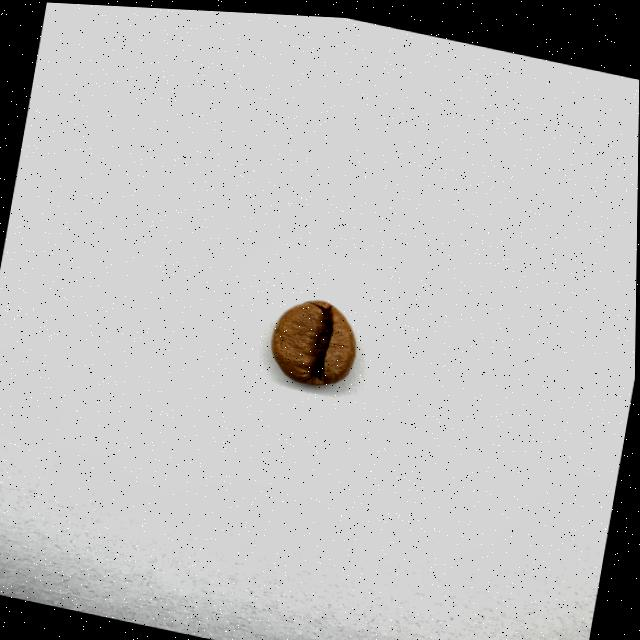Good bean: (265, 288, 365, 390)
